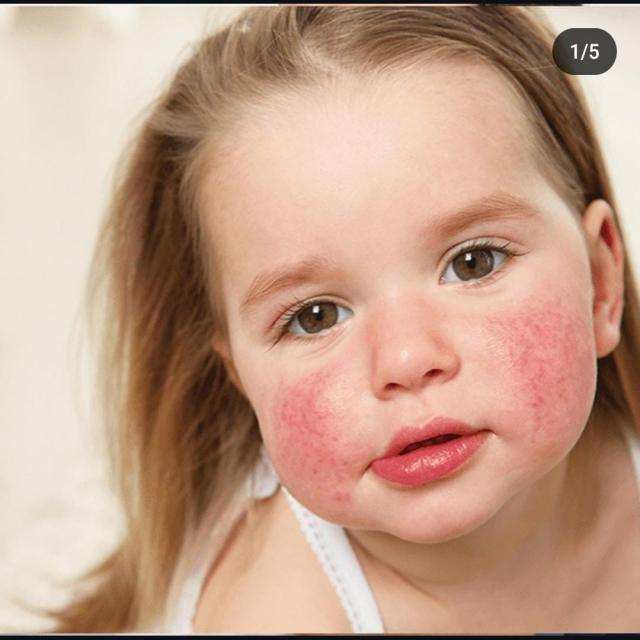Rosacea: (493, 311, 598, 413), (276, 390, 346, 479)
